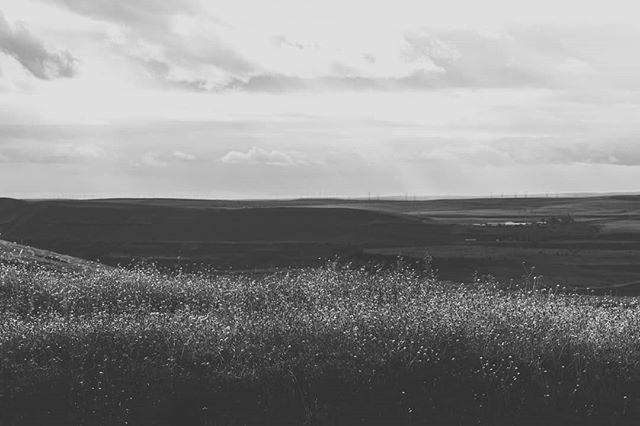grass: (5, 261, 640, 426)
sky: (3, 1, 640, 196)
